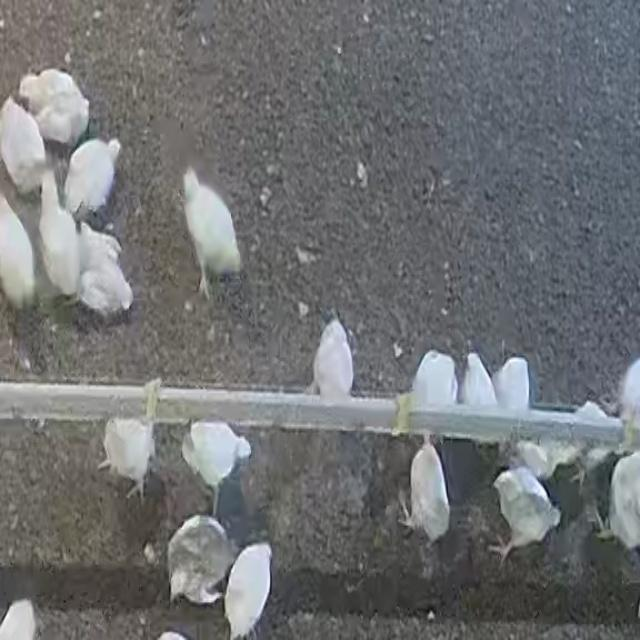chicken: (488, 467, 560, 563), (182, 170, 242, 285), (68, 225, 134, 323), (166, 514, 236, 606), (180, 421, 252, 503), (18, 67, 92, 145), (38, 170, 84, 295), (222, 542, 273, 640), (404, 438, 450, 546), (97, 416, 155, 501), (0, 99, 49, 199), (0, 189, 39, 314), (64, 138, 122, 208), (514, 436, 586, 486), (604, 456, 640, 549), (310, 320, 352, 398), (410, 350, 459, 412), (491, 356, 531, 413), (461, 353, 497, 408)
